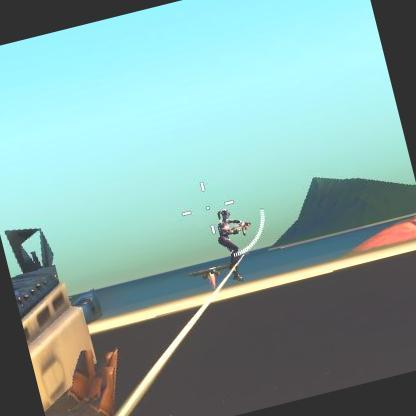person: (212, 203, 260, 266)
